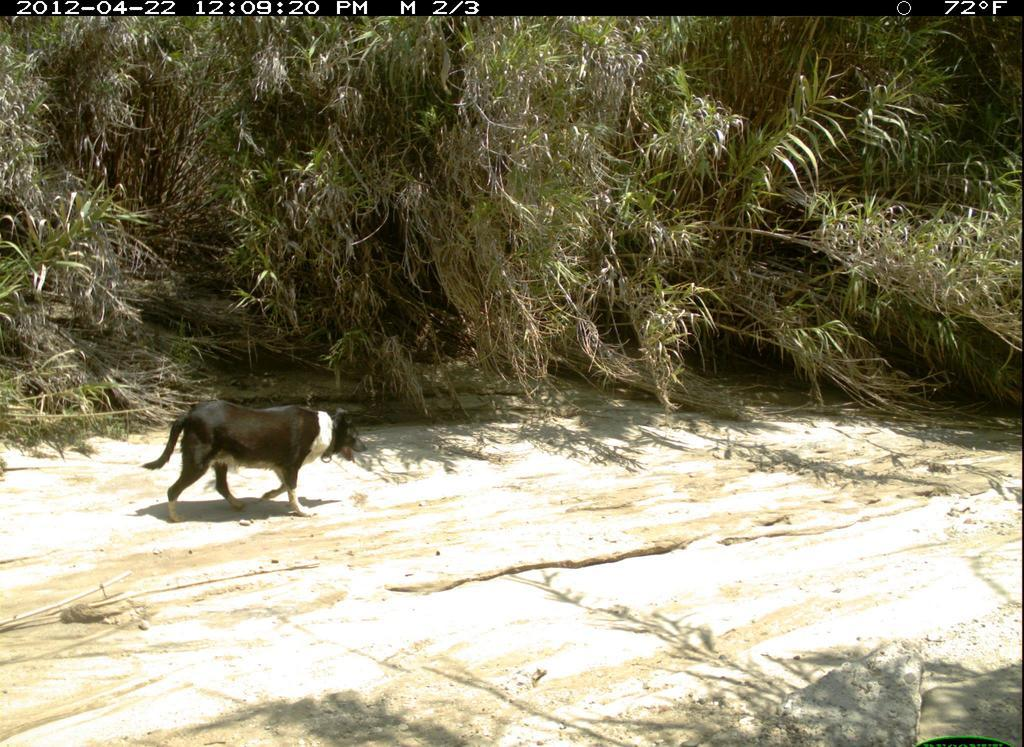dog: (143, 390, 372, 527)
